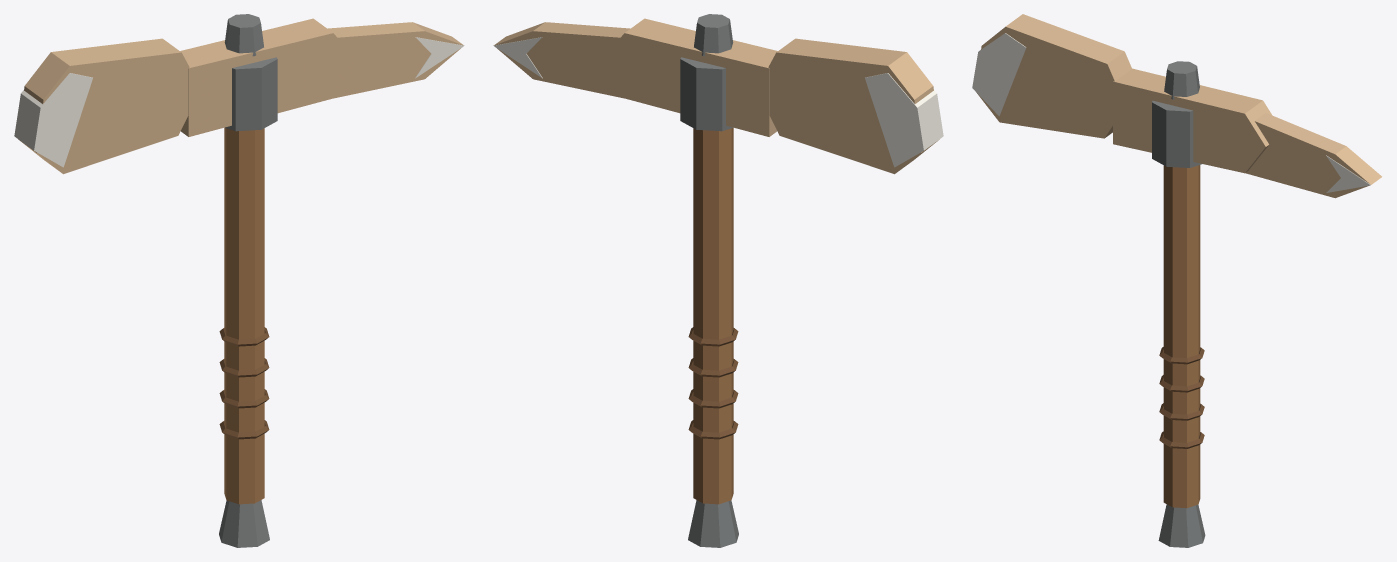
Rendered from t2_hammer.glb.
3 renders of one model, left to right at view 1: azimuth 30°, elevation 25°; view 2: azimuth 150°, elevation 25°; view 3: azimuth 330°, elevation 25°, orthographic. The views are drawn at different scales.
Visible parts, largest first — view 1: WoodHandle, HammerHead, HeadCore, ChiselPoint, HammerFace, HeadSocket, BottomPommel, TopCap, ChiselTip; view 2: WoodHandle, HammerHead, HeadCore, ChiselPoint, HammerFace, HeadSocket, BottomPommel, TopCap, ChiselTip; view 3: WoodHandle, HammerHead, HeadCore, ChiselPoint, HammerFace, HeadSocket, BottomPommel, TopCap, ChiselTip.
Boxes of the visible parts, x1,y1,x2,y2 form: WoodHandle: [224, 127, 264, 504]; HammerHead: [18, 38, 189, 174]; HeadCore: [180, 18, 356, 136]; ChiselPoint: [327, 22, 463, 98]; HammerFace: [14, 73, 92, 167]; HeadSocket: [225, 57, 277, 131]; BottomPommel: [219, 500, 269, 547]; TopCap: [224, 14, 263, 56]; ChiselTip: [415, 37, 464, 78]; WoodHandle: [693, 127, 733, 504]; HammerHead: [768, 38, 939, 174]; HeadCore: [601, 18, 777, 136]; ChiselPoint: [494, 22, 630, 98]; HammerFace: [865, 73, 943, 167]; HeadSocket: [680, 57, 732, 131]; BottomPommel: [688, 500, 738, 547]; TopCap: [694, 14, 733, 56]; ChiselTip: [493, 37, 542, 78]; WoodHandle: [1163, 165, 1200, 508]; HammerHead: [976, 14, 1131, 138]; HeadCore: [1113, 68, 1272, 173]; ChiselPoint: [1245, 113, 1381, 198]; HammerFace: [972, 33, 1026, 116]; HeadSocket: [1152, 100, 1201, 167]; BottomPommel: [1158, 504, 1205, 547]; TopCap: [1164, 61, 1199, 99]; ChiselTip: [1326, 155, 1382, 192].
Bounding box in the file's own units: 1.32 × 1.52 × 0.18.
